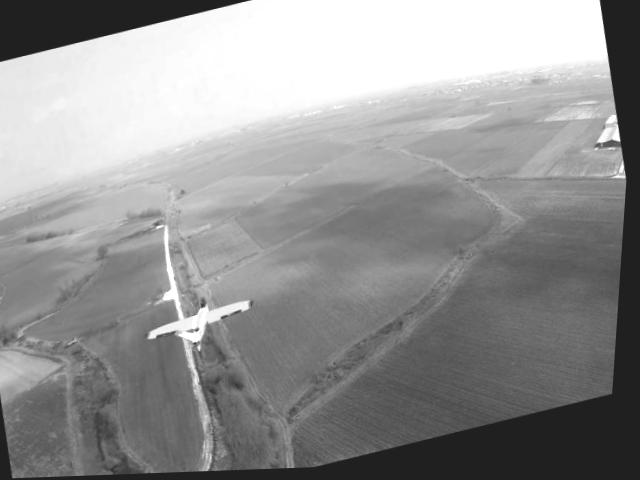hedef: (137, 273, 273, 375)
